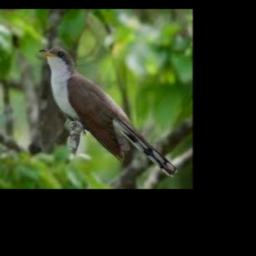Cuckoo: (39, 47, 178, 178)
